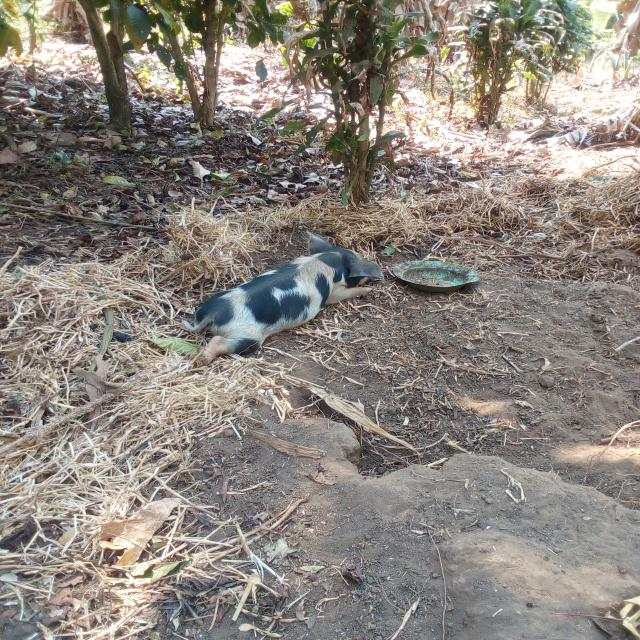pig: (154, 219, 401, 383)
